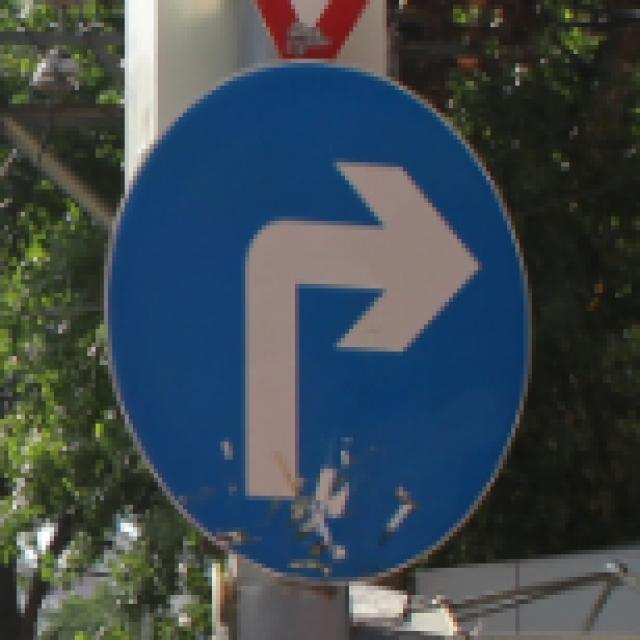Right: (116, 57, 534, 587)
